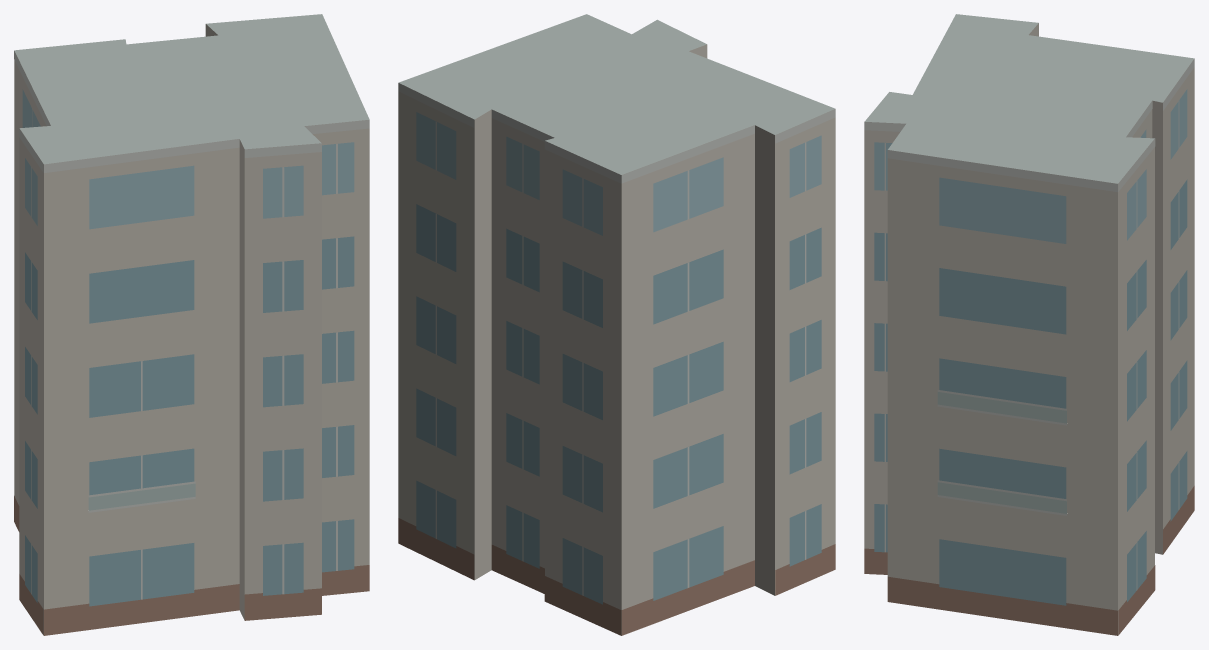
File: survey-upis-32458445.glb
The picture shows the model from 3 angles, left to right: view 1: azimuth 30°, elevation 25°; view 2: azimuth 150°, elevation 25°; view 3: azimuth 270°, elevation 25°; orthographic projection. The views are drawn at different scales.
Parts seen in each view (by area): view 1: survey-upis-32458445.tmp; view 2: survey-upis-32458445.tmp; view 3: survey-upis-32458445.tmp.
Boxes of the visible parts, bbox=[...] form: survey-upis-32458445.tmp: bbox=[14, 14, 369, 635]; survey-upis-32458445.tmp: bbox=[398, 14, 835, 635]; survey-upis-32458445.tmp: bbox=[864, 14, 1194, 635].
Bounding box in the file's own units: 10.56 × 13.1 × 8.68.
